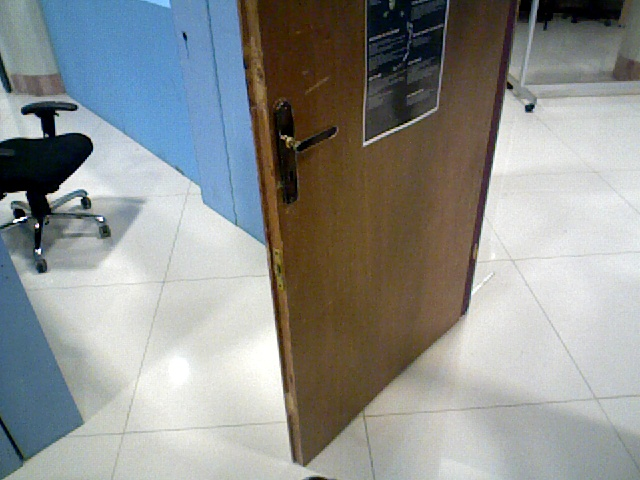door_handle: (269, 94, 340, 208)
